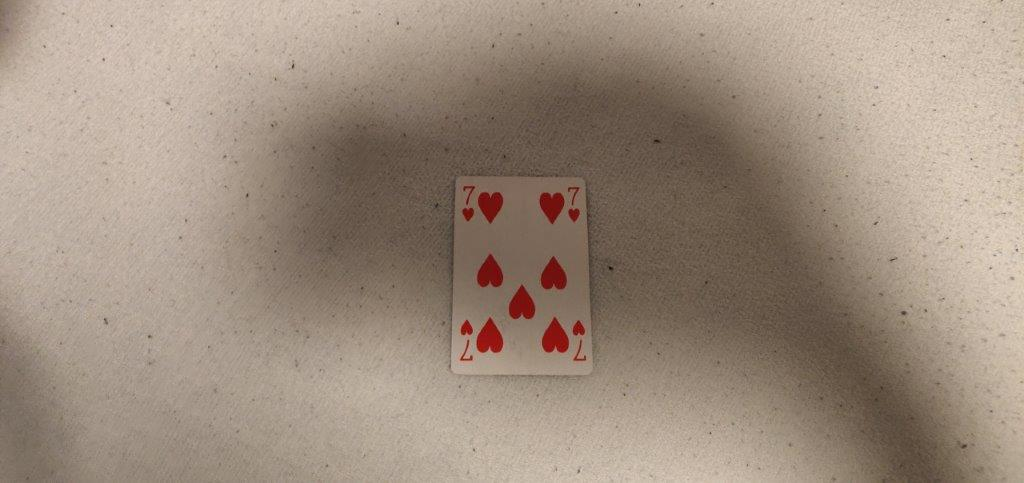7H: (563, 182, 588, 230), (460, 182, 478, 228)
